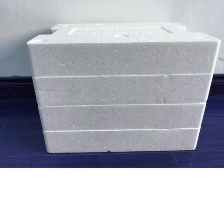foam_box: (20, 16, 222, 157)
